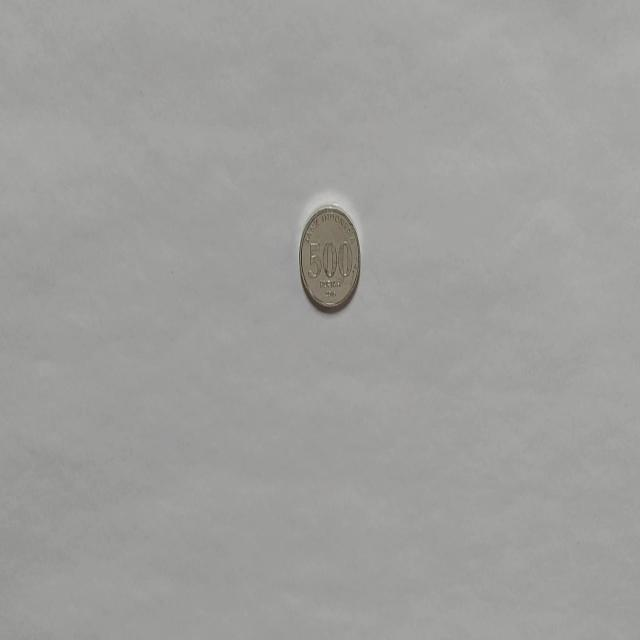lima ratus rupiah: (298, 204, 361, 312)
